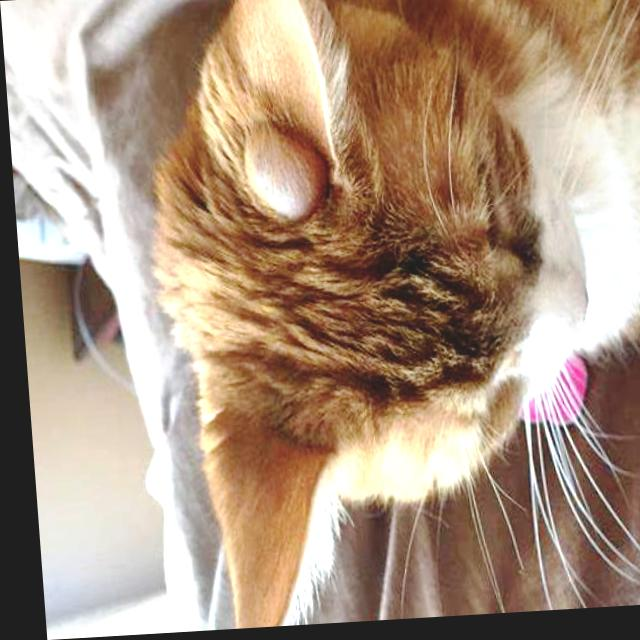lump_and_bump: (246, 124, 328, 218)
